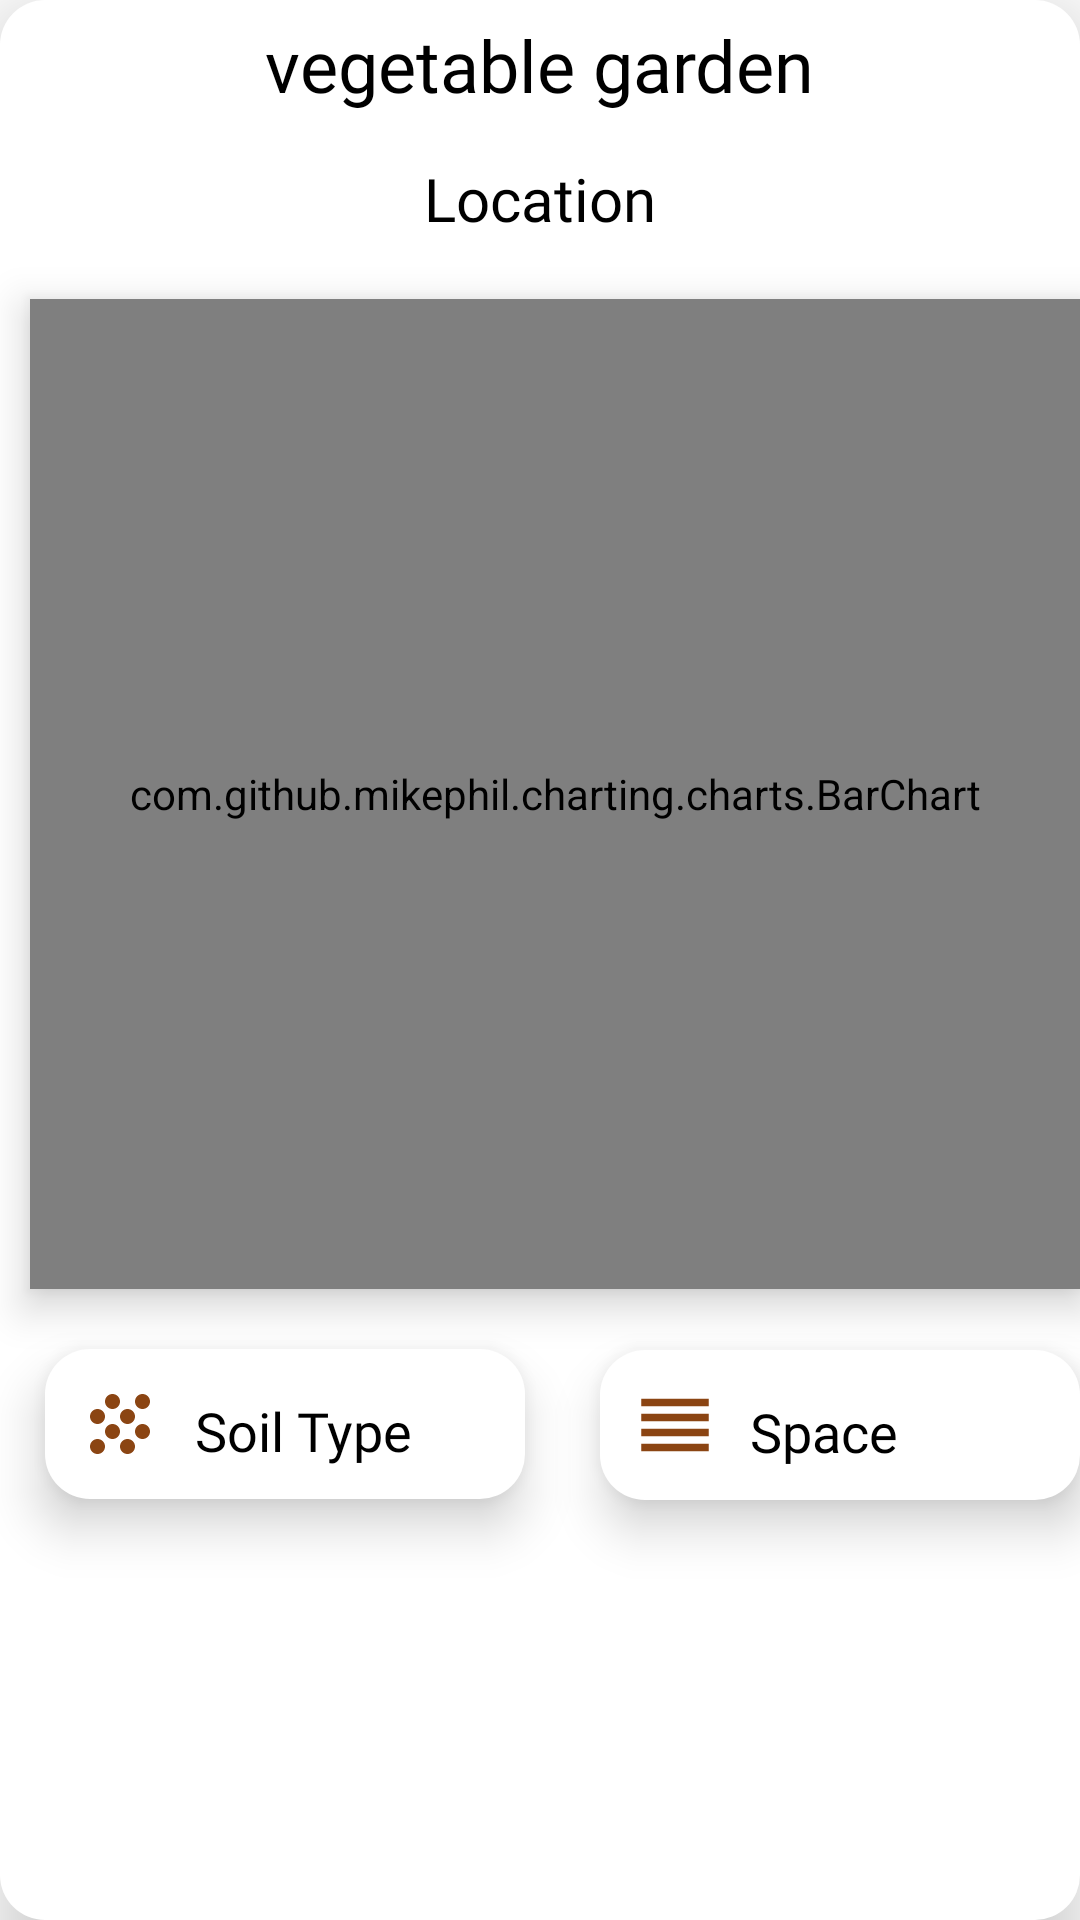

Named icons in this screenshot (1080 x 1920) and their centers, (x,y):
grain: (120,1424)
reorder: (675,1425)
